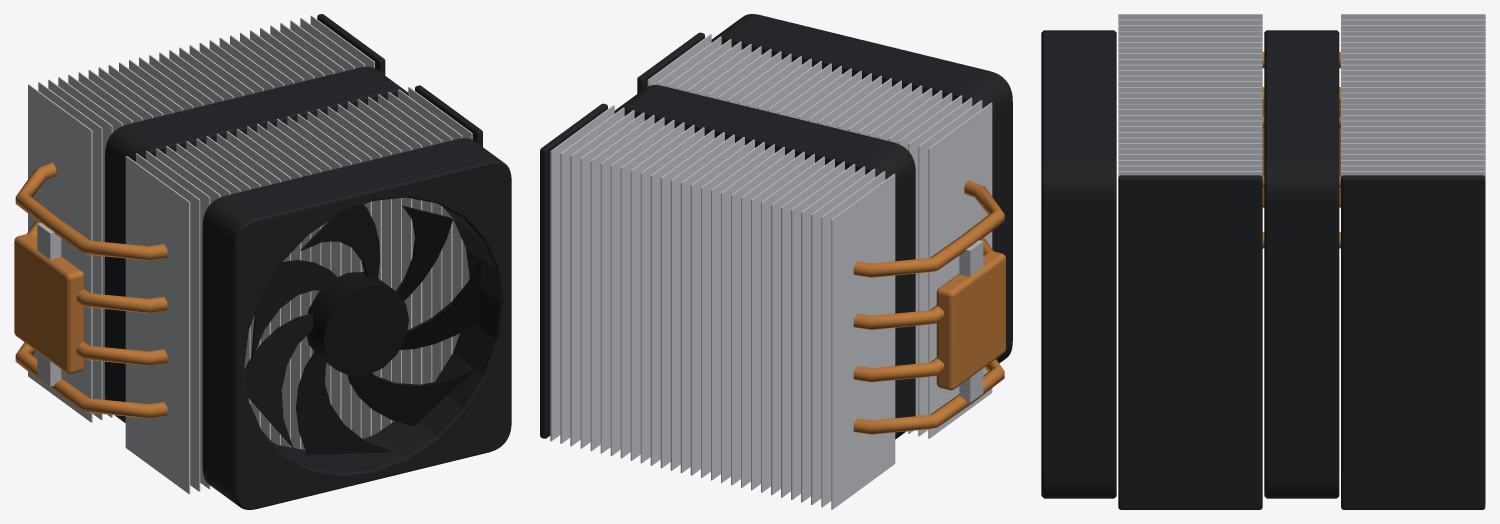
The model's file is cooler-dual-tower-v1.lod1.glb.
The picture shows the model from 3 angles, left to right: view 1: azimuth 30°, elevation 25°; view 2: azimuth 150°, elevation 25°; view 3: azimuth 270°, elevation 25°; orthographic projection. The views are drawn at different scales.
Parts seen in each view (by area): view 1: fan_1__mesh, fin_stack_1__mesh, fin_stack_0__mesh, fan_0__mesh, base__mesh, heatpipes__mesh, top_cover_0__mesh, top_cover_1__mesh; view 2: fin_stack_0__mesh, fin_stack_1__mesh, fan_0__mesh, fan_1__mesh, base__mesh, heatpipes__mesh, top_cover_0__mesh, top_cover_1__mesh; view 3: top_cover_0__mesh, top_cover_1__mesh, fan_0__mesh, fan_1__mesh, fin_stack_0__mesh, fin_stack_1__mesh.
Boxes of the visible parts, x1,y1,x2,y2 form: fan_1__mesh: [202, 138, 511, 509]; fin_stack_1__mesh: [125, 87, 472, 494]; fin_stack_0__mesh: [28, 15, 374, 422]; fan_0__mesh: [105, 66, 408, 422]; base__mesh: [14, 223, 84, 386]; heatpipes__mesh: [15, 162, 167, 418]; top_cover_0__mesh: [317, 14, 385, 75]; top_cover_1__mesh: [415, 85, 482, 146]; fin_stack_0__mesh: [550, 105, 895, 509]; fin_stack_1__mesh: [647, 34, 992, 438]; fan_0__mesh: [614, 85, 915, 439]; fan_1__mesh: [711, 14, 1012, 363]; base__mesh: [936, 240, 1005, 402]; heatpipes__mesh: [853, 180, 1004, 434]; top_cover_0__mesh: [540, 103, 607, 438]; top_cover_1__mesh: [637, 32, 704, 93]; top_cover_0__mesh: [1341, 175, 1485, 509]; top_cover_1__mesh: [1118, 175, 1262, 509]; fan_0__mesh: [1264, 30, 1339, 498]; fan_1__mesh: [1041, 30, 1116, 498]; fin_stack_0__mesh: [1341, 14, 1485, 504]; fin_stack_1__mesh: [1118, 14, 1262, 176].
Size of the model in its own units: 0.159 by 0.122 by 0.1475.
